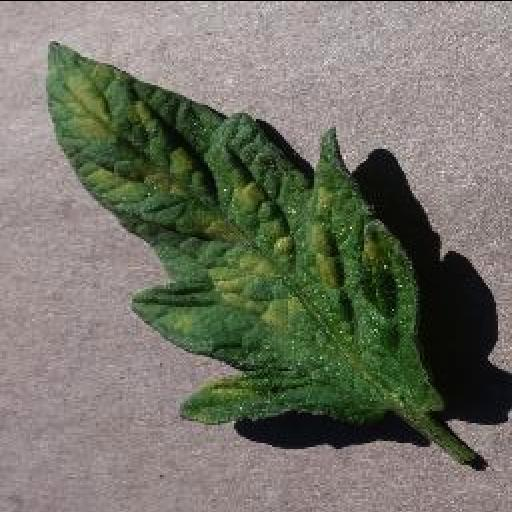disease_tomato: (46, 42, 442, 420)
